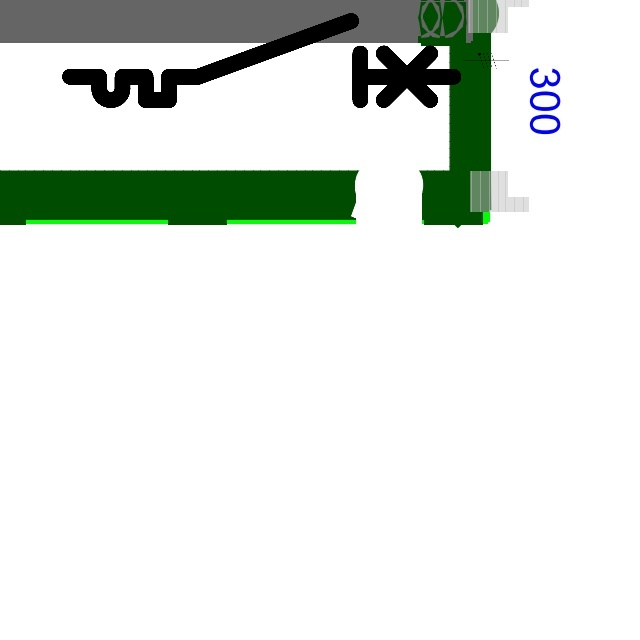interruptor_termomagnetico: (60, 11, 463, 110)
